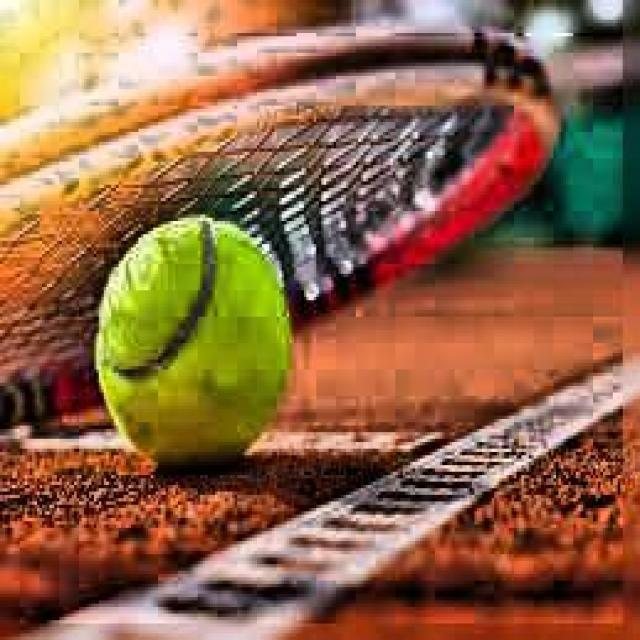tennis-ball: (94, 221, 299, 469)
